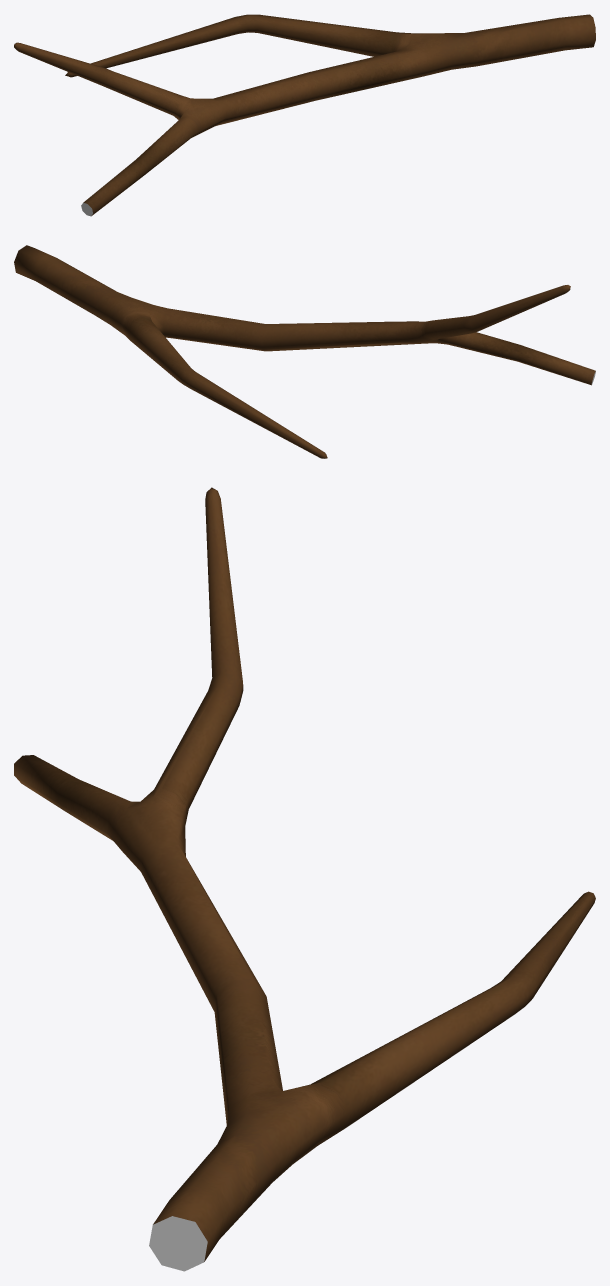
Rendered from Branch_3.glb.
3 renders of one model, top to bottom at view 1: azimuth 30°, elevation 25°; view 2: azimuth 150°, elevation 25°; view 3: azimuth 270°, elevation 25°, orthographic. The views are drawn at different scales.
Parts seen in each view (by area): view 1: Cube.082; view 2: Cube.082; view 3: Cube.082.
Part boxes in pixels (<box>): Cube.082: <box>14,14,595,216</box>; Cube.082: <box>14,245,595,458</box>; Cube.082: <box>14,487,595,1271</box>.
Bounding box in the file's own units: 2.38 × 0.5681 × 1.1.
Materials: 2 (1 with a texture image).
